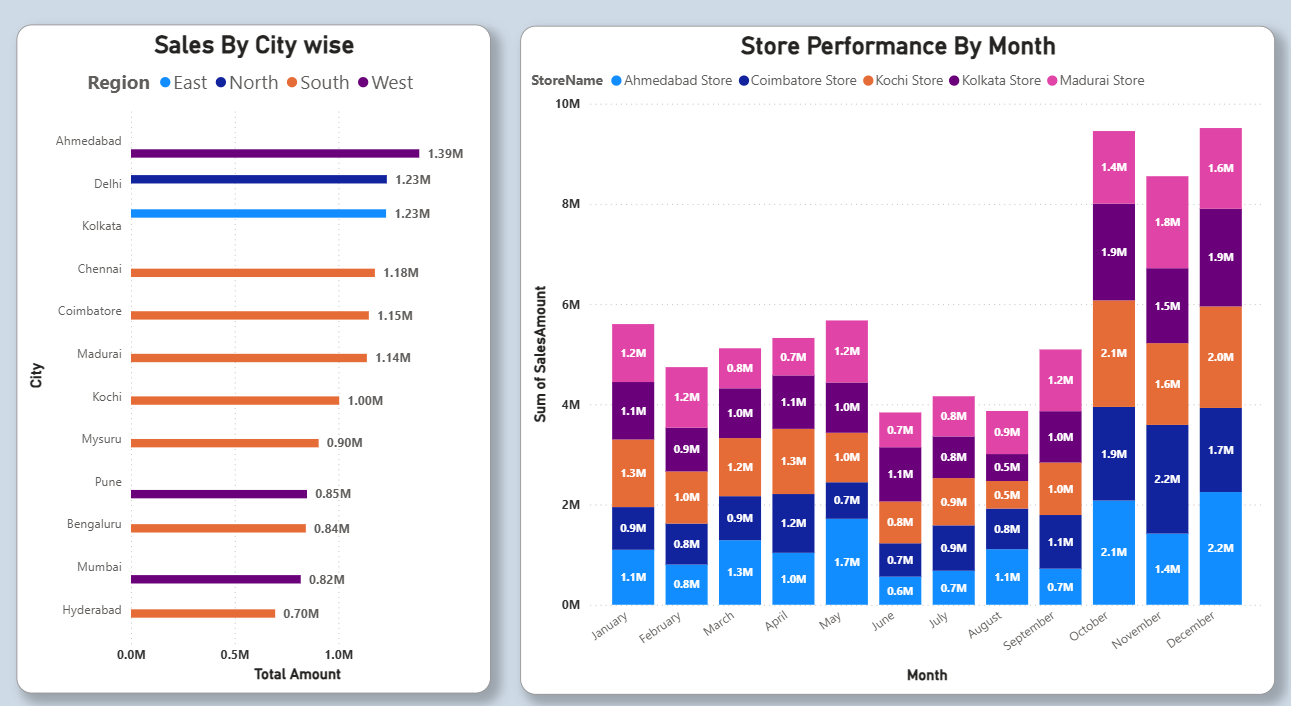

This screenshot's page, from the dashboard's own definition file:
{"tool":"powerbi","page":{"name":"Regional / Store Performance","canvas":[1280,720],"ordinal":2},"visuals":[{"type":"clusteredBarChart","title":"Sales By City wise","fields":{"Y":["Sum(fact_sales.SalesAmount)"],"Category":["dim_store.City"],"Series":["dim_store.Region"]},"box":[22,31.6,463.8,654.5],"z":1000},{"type":"columnChart","title":"Store Performance By Month","fields":{"Category":["fact_sales.OrderDate.Variation.Date Hierarchy.Month"],"Y":["Sum(fact_sales.SalesAmount)"],"Series":["dim_store.StoreName"]},"box":[514.6,32.9,738.3,654.5],"z":2000}]}

Visuals, with their boxes in screenshot pixels (x1, y1, x2, y2), scaled from the page's 1280x720 canvas onto the 1291x706 screenshot:
"Sales By City wise" clusteredBarChart: 22, 31, 490, 673
"Store Performance By Month" columnChart: 519, 32, 1264, 674
